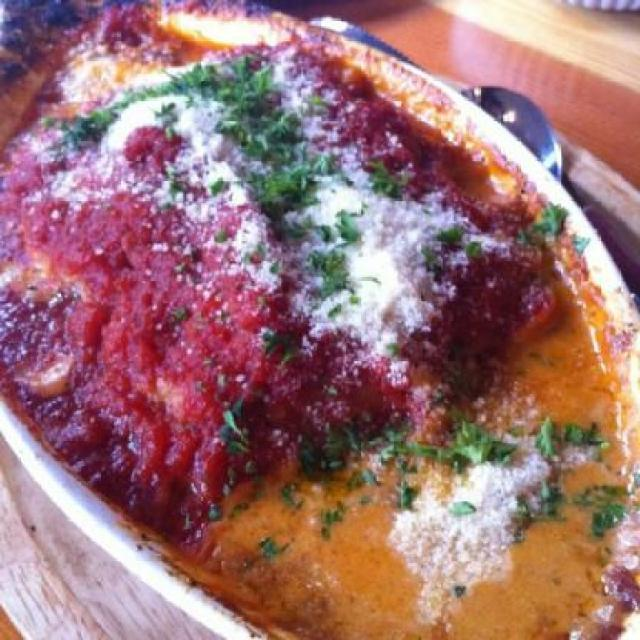Lasagna: (17, 32, 580, 603)
